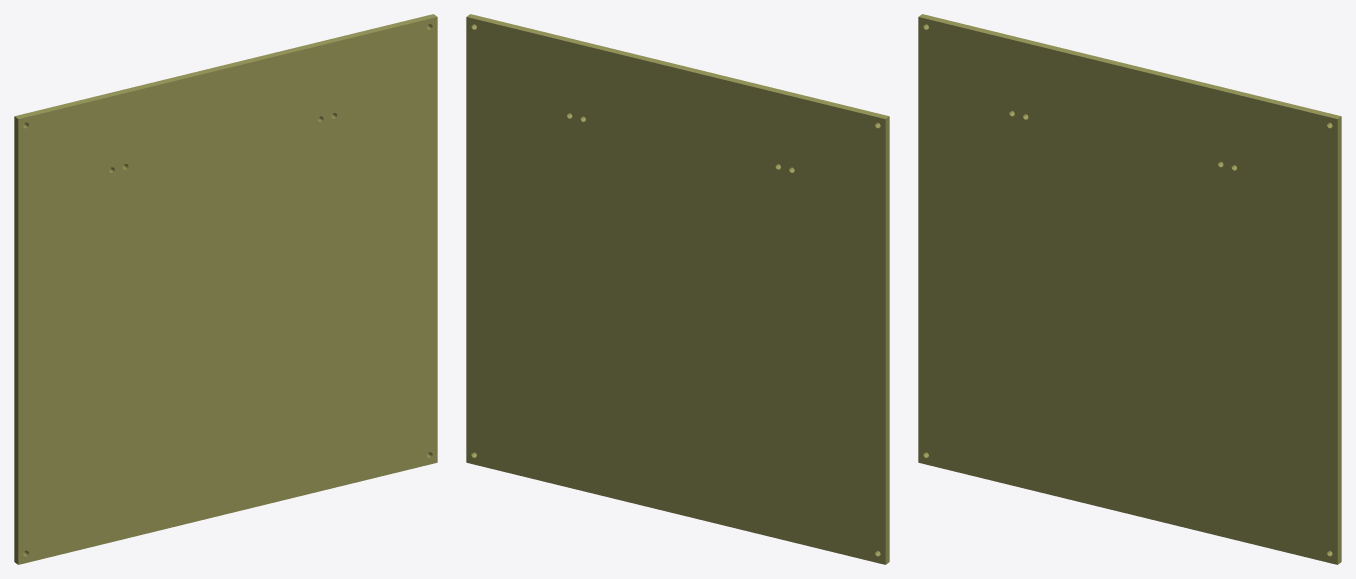
The model's file is OBJ_Cart connector board.obj.
3 views of the same model, side by side, from view 1: azimuth 30°, elevation 25°; view 2: azimuth 150°, elevation 25°; view 3: azimuth 330°, elevation 25° (orthographic).
Size of the model in its own units: 605 by 615 by 10.
